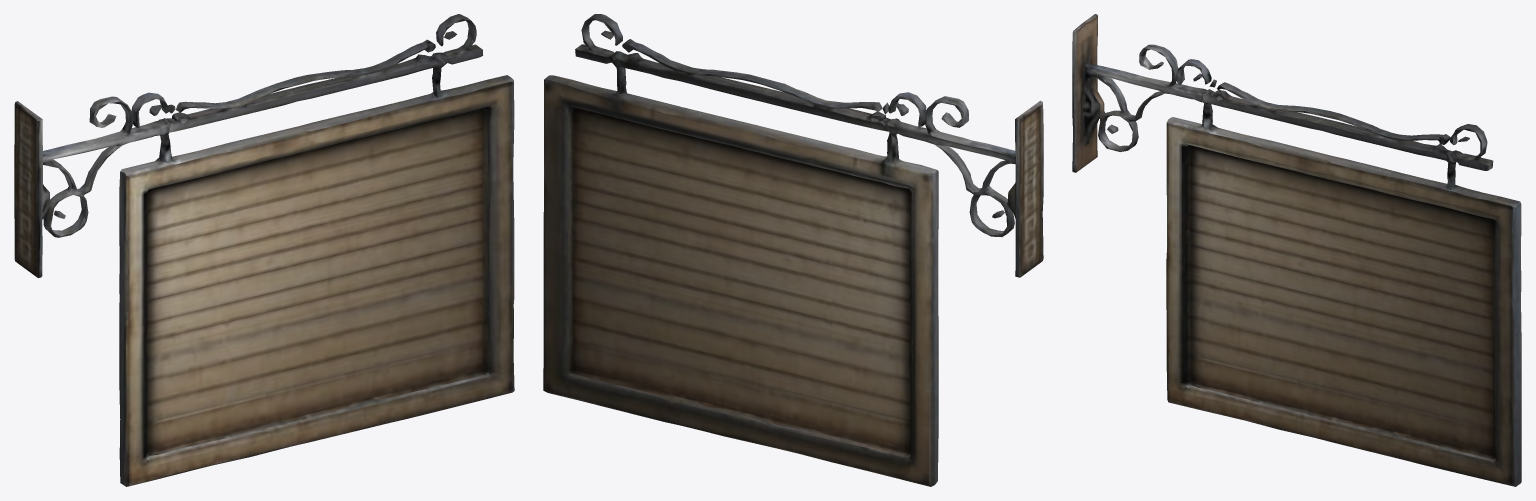
Rendered from street_panel.glb.
3 renders of one model, left to right at view 1: azimuth 30°, elevation 25°; view 2: azimuth 150°, elevation 25°; view 3: azimuth 330°, elevation 25°, orthographic. The views are drawn at different scales.
Visible parts, largest first — view 1: turn; view 2: turn; view 3: turn.
Boxes of the visible parts, left/top/right/bottom form: turn: left=14, top=14, right=514, bottom=486; turn: left=543, top=14, right=1043, bottom=486; turn: left=1072, top=14, right=1521, bottom=486.
Size of the model in its own units: 1.15 by 0.9 by 0.1038.
1 material, 1 textured.
